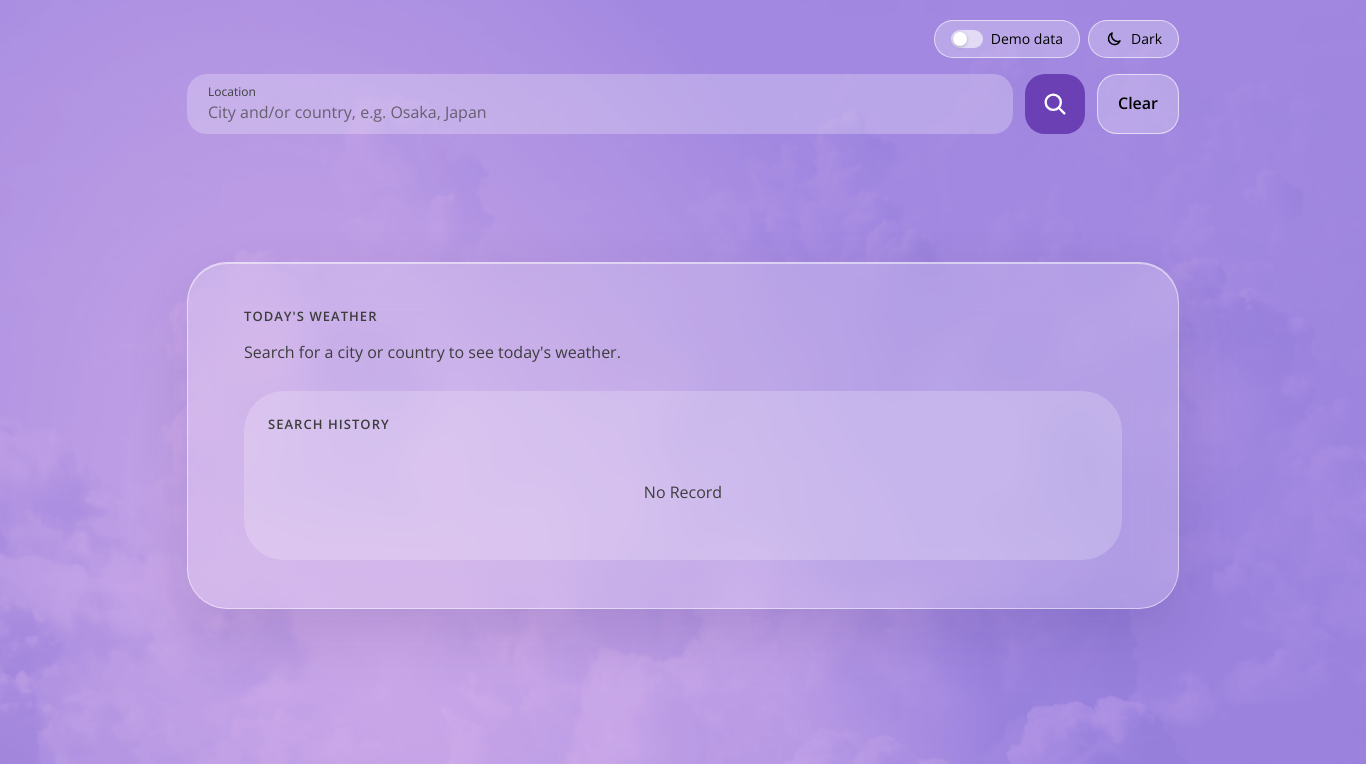
Test: App › demo data › offers demo data when the API key is rejected
In the dropdown labelled "Location": [600, 112] box [208,101,992,123], type "Tokyo"
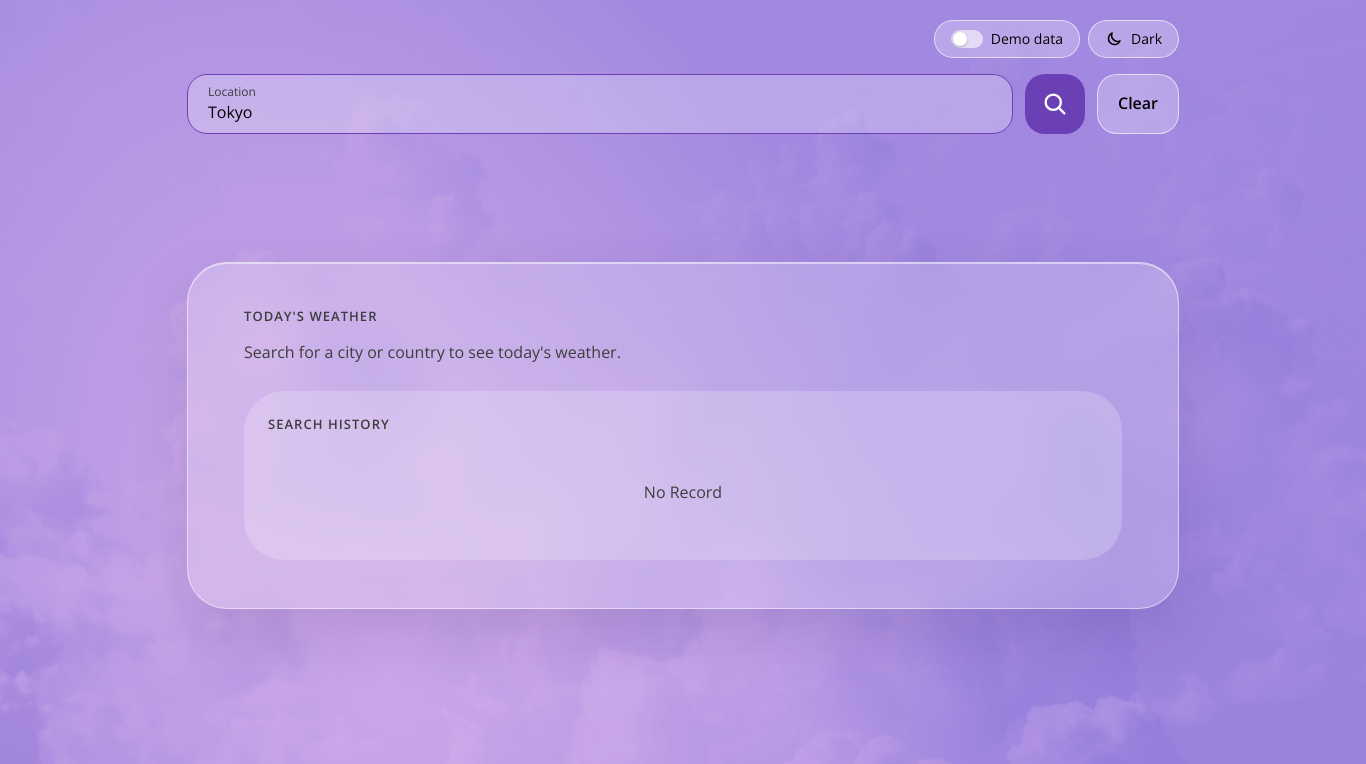
Click the button named "Search": [1055, 104] box [1025,74,1085,134]
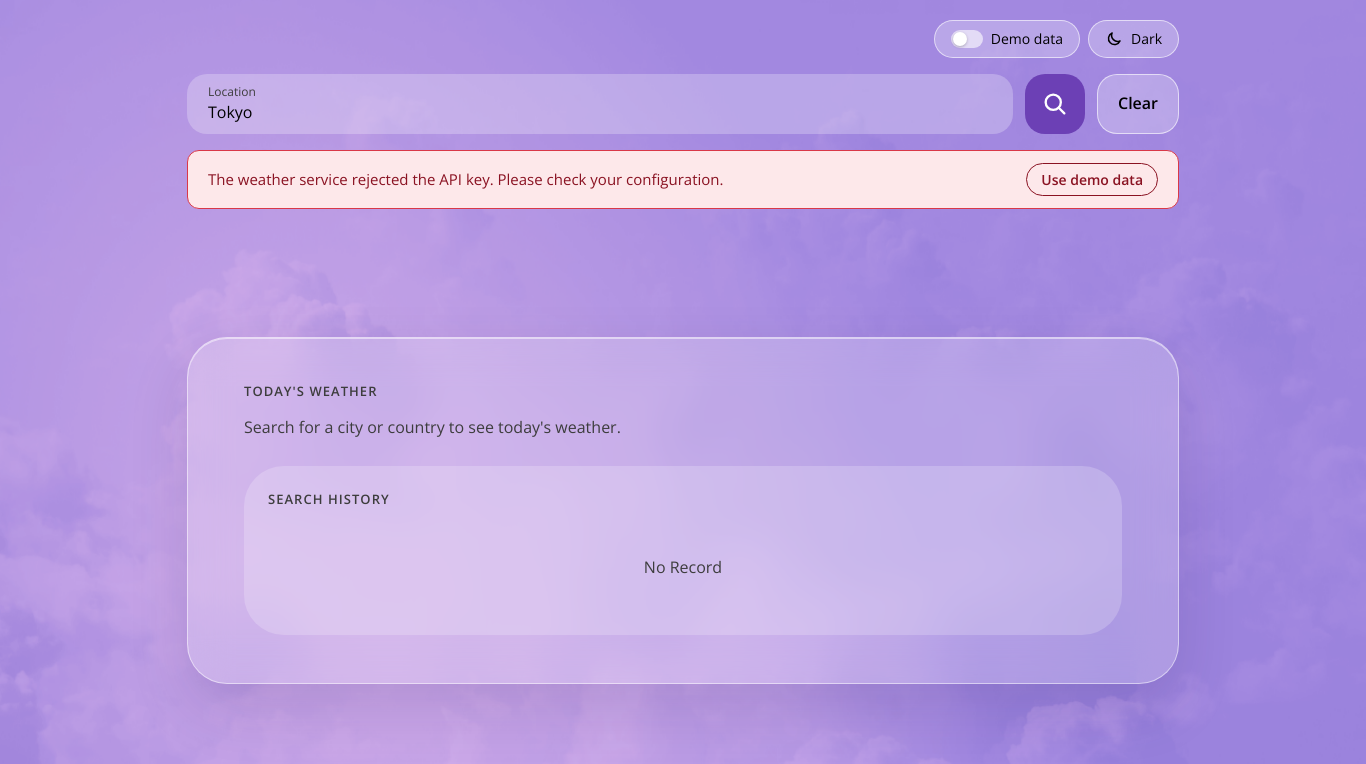
Check: the message shows "rejected the API key", box [208,169,724,189]
Click the button "Use demo data": [1092, 179] box [1026,163,1158,196]
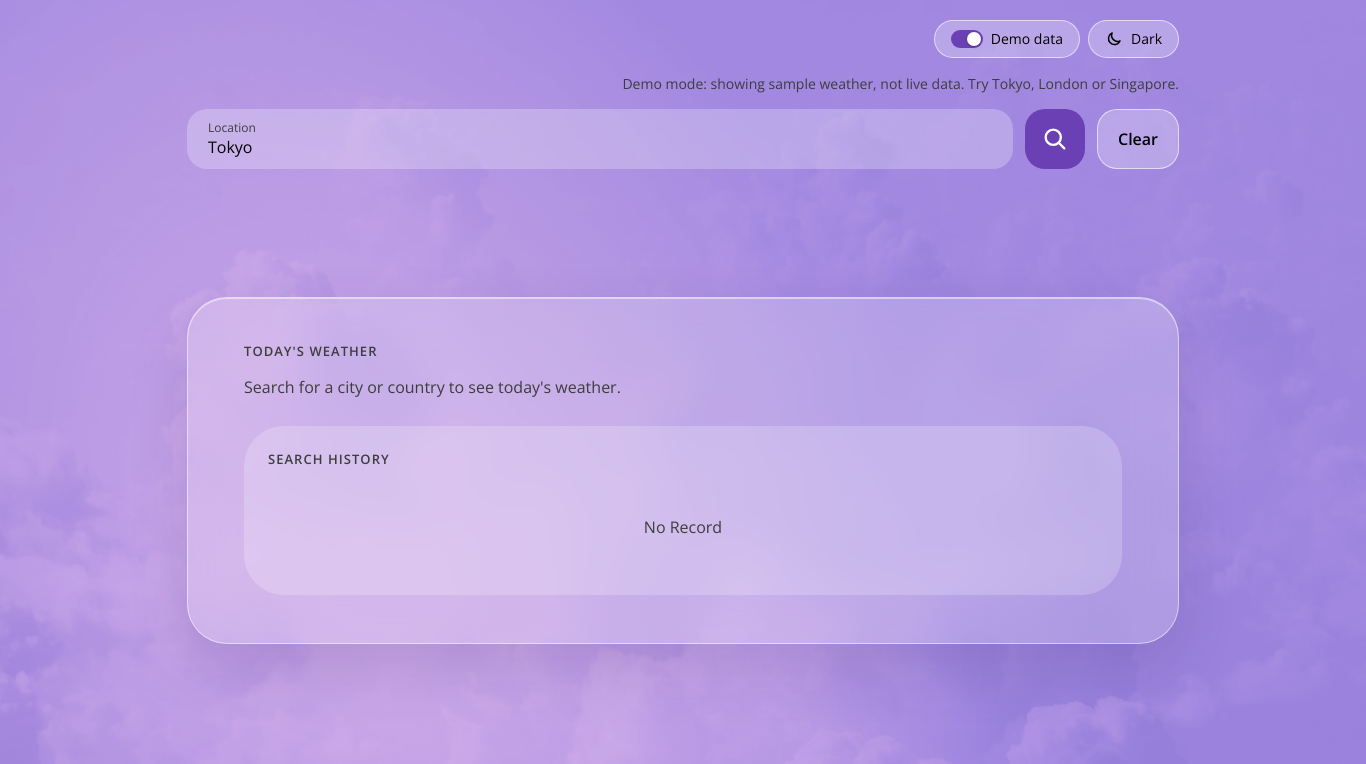
Check: the message is gone
Check: the switch labelled "Demo data" is checked, box [934,20,1080,58]
Click the button named "Search": [1055, 139] box [1025,109,1085,169]
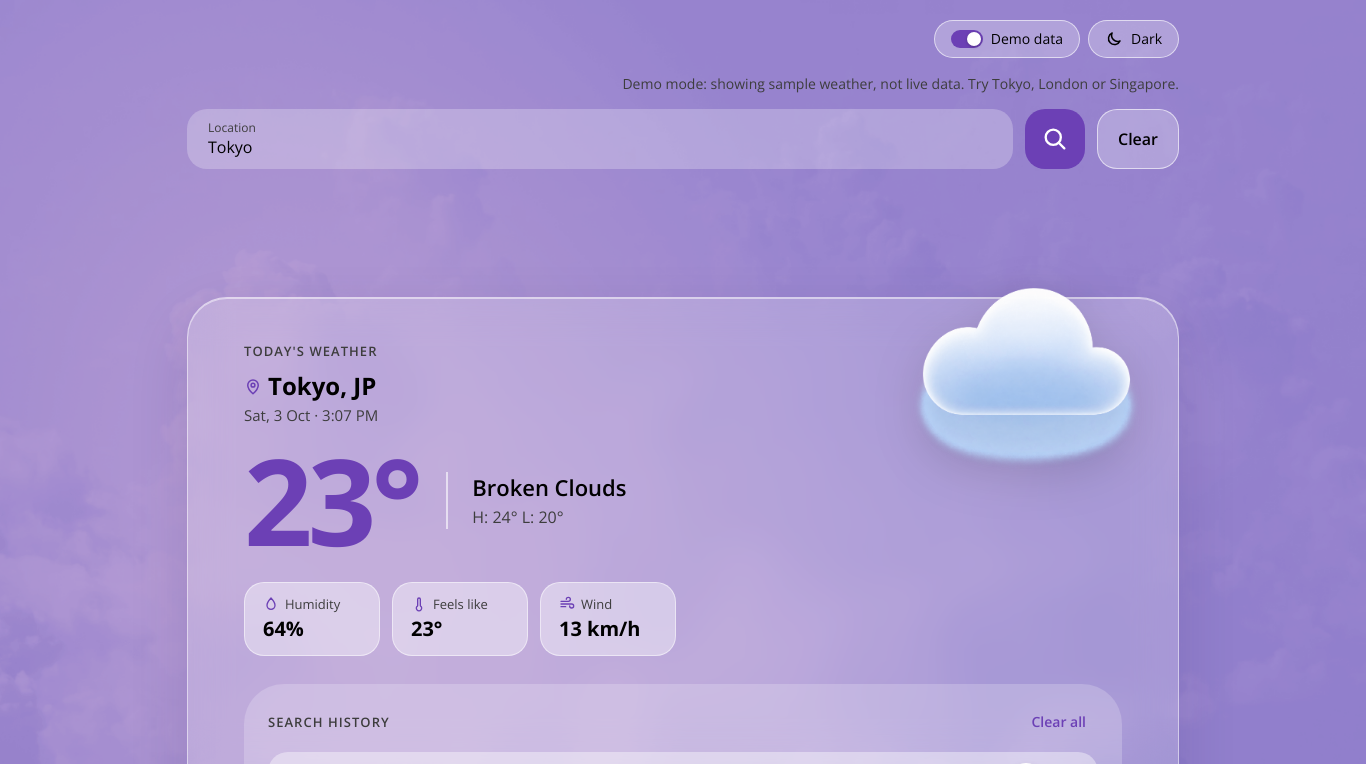
Check: the text "64%" is shown, box [263,615,304,642]
